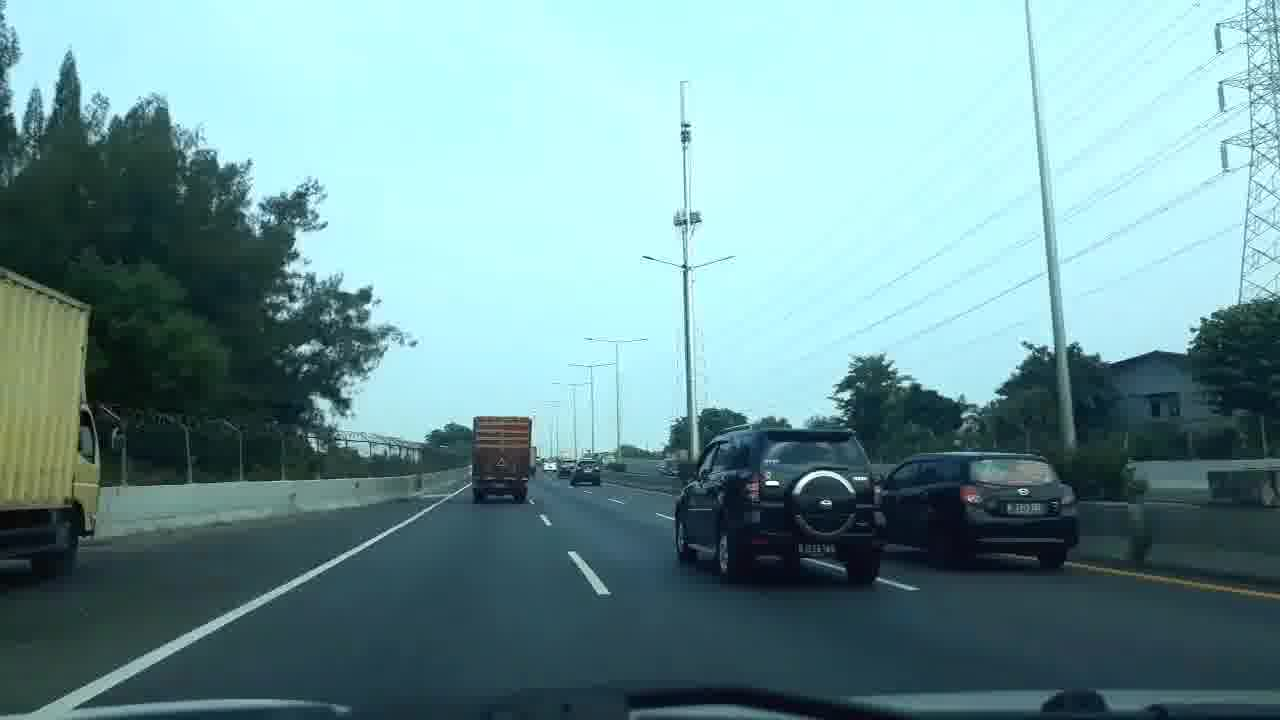plate_positive: (796, 544, 837, 558), (1005, 503, 1042, 516)
